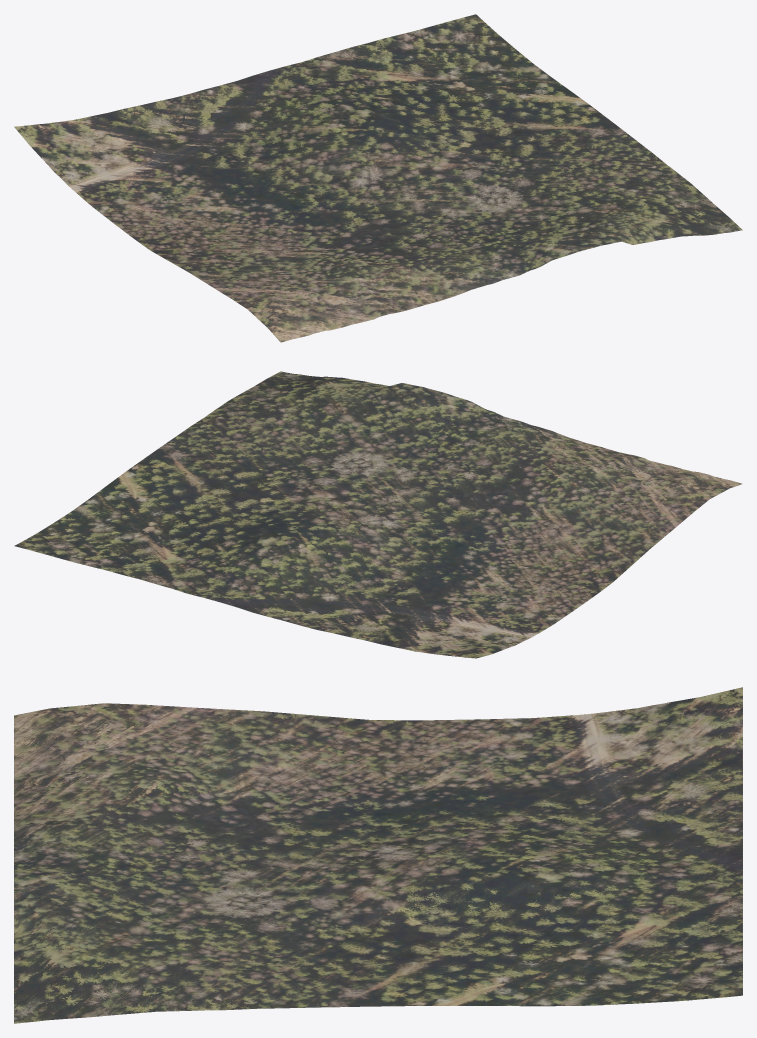
File: CM_Terrain_24490458_6822251.fbx
3 renders of one model, top to bottom at view 1: azimuth 30°, elevation 25°; view 2: azimuth 150°, elevation 25°; view 3: azimuth 270°, elevation 25°, orthographic. The views are drawn at different scales.
Parts seen in each view (by area): view 1: CM_Terrain_24490458_6822251_LOD0; view 2: CM_Terrain_24490458_6822251_LOD0; view 3: CM_Terrain_24490458_6822251_LOD0.
Part boxes in pixels (x1,y1,x2,y2): CM_Terrain_24490458_6822251_LOD0: (14,14,742,342); CM_Terrain_24490458_6822251_LOD0: (14,371,742,658); CM_Terrain_24490458_6822251_LOD0: (14,687,742,1023).
Size of what is drawn, in the model's own units: 205 by 10.27 by 205.
